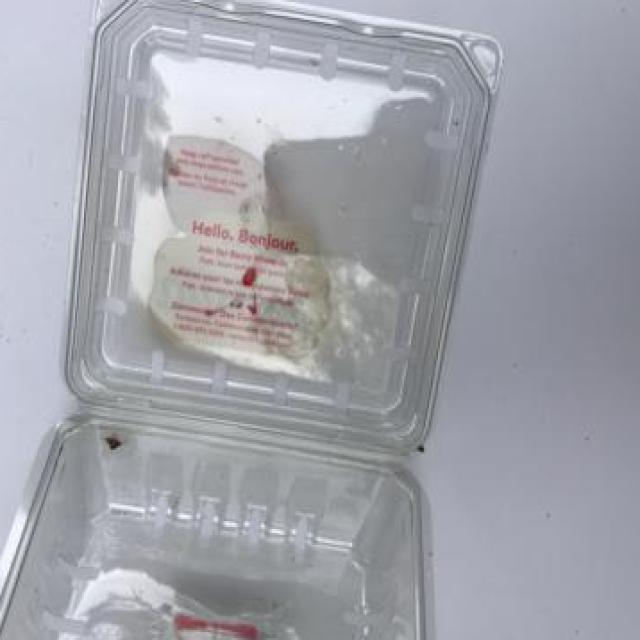organic: (66, 2, 466, 638)
